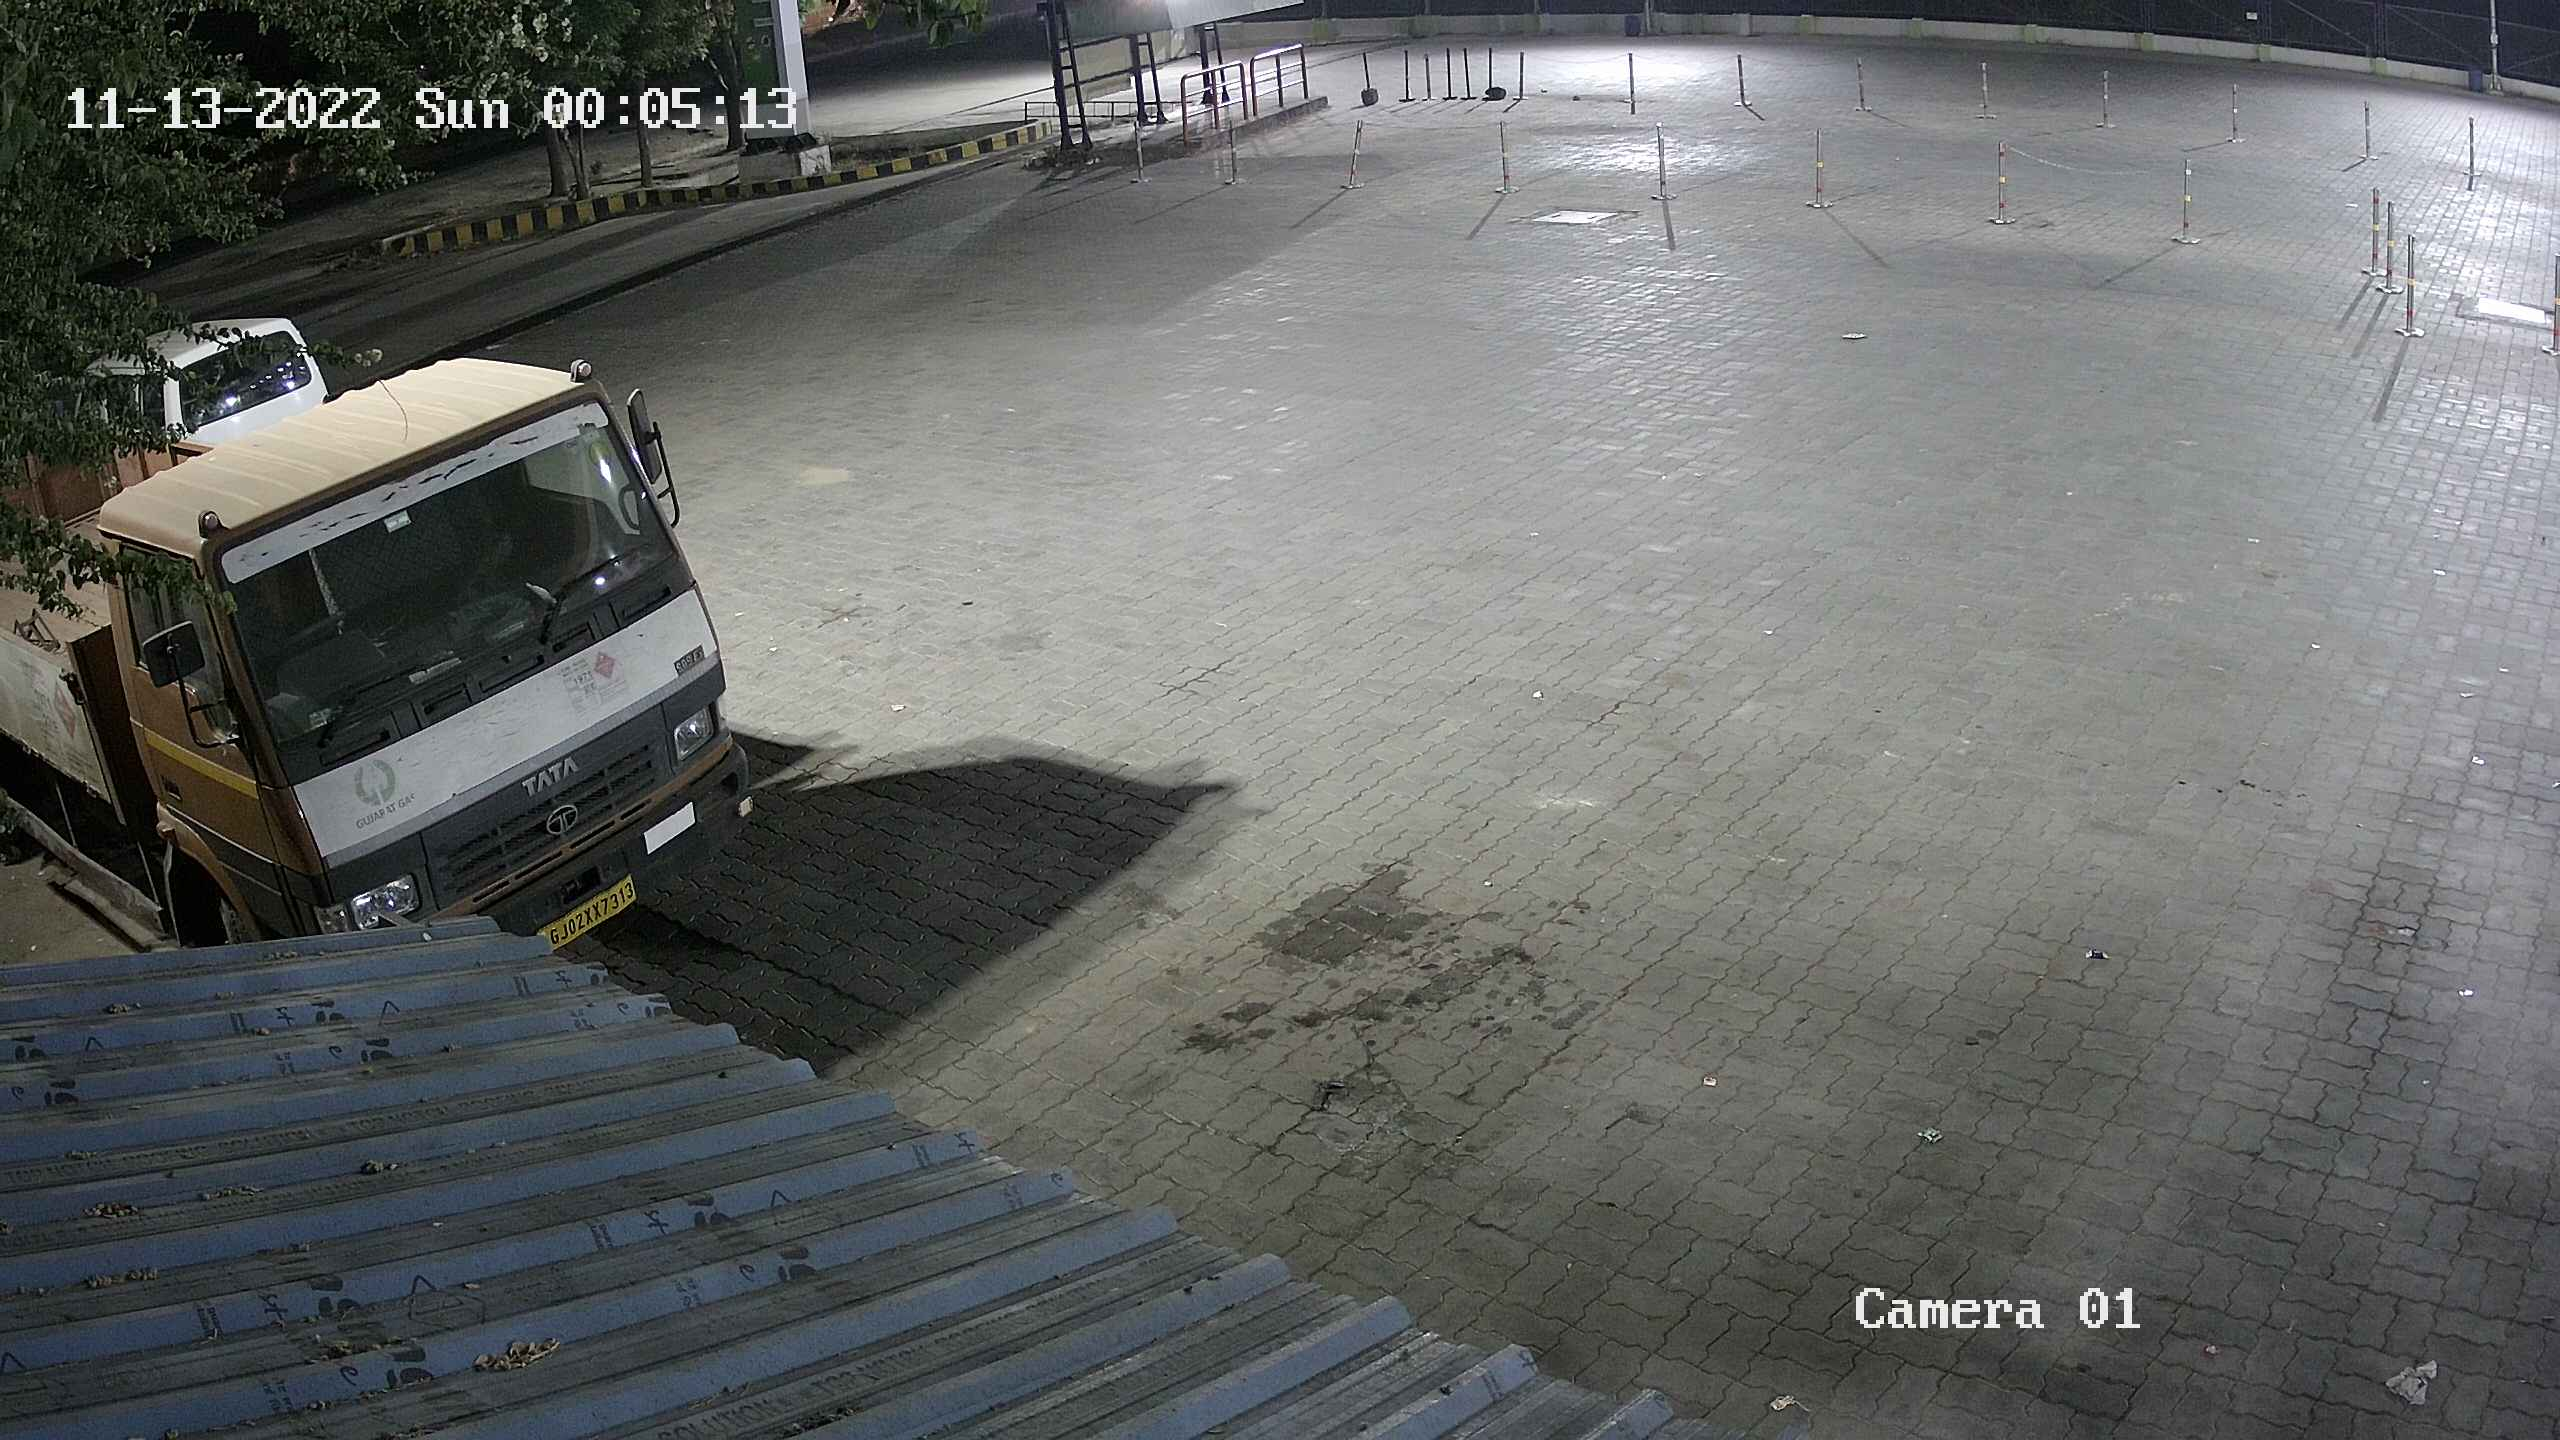Car: (46, 302, 343, 461)
HMV: (0, 352, 768, 964)
